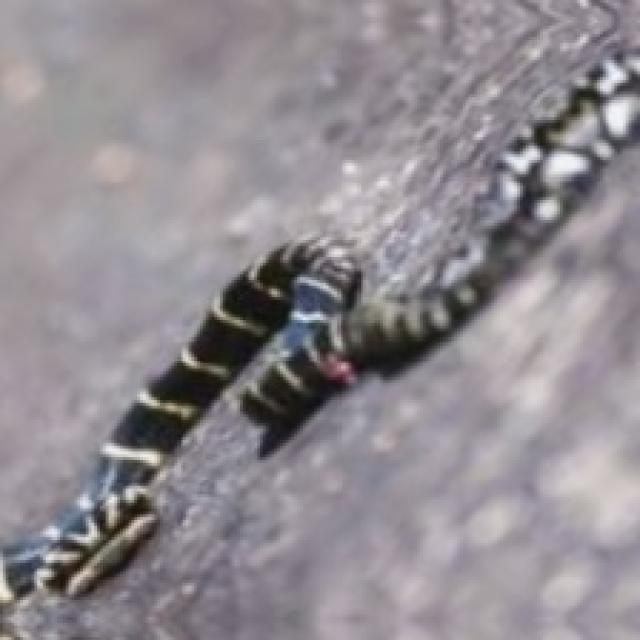king cobra: (0, 0, 637, 537), (9, 151, 637, 637)
